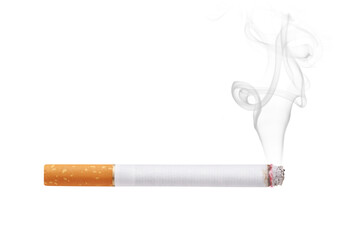cigarette: (39, 159, 293, 192)
